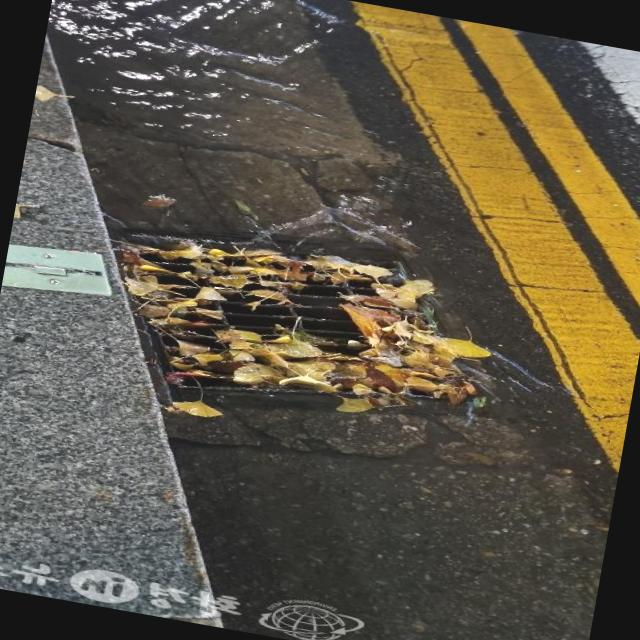drain_area: (213, 281, 371, 340), (145, 255, 195, 272)
drain_full: (119, 238, 479, 399)
